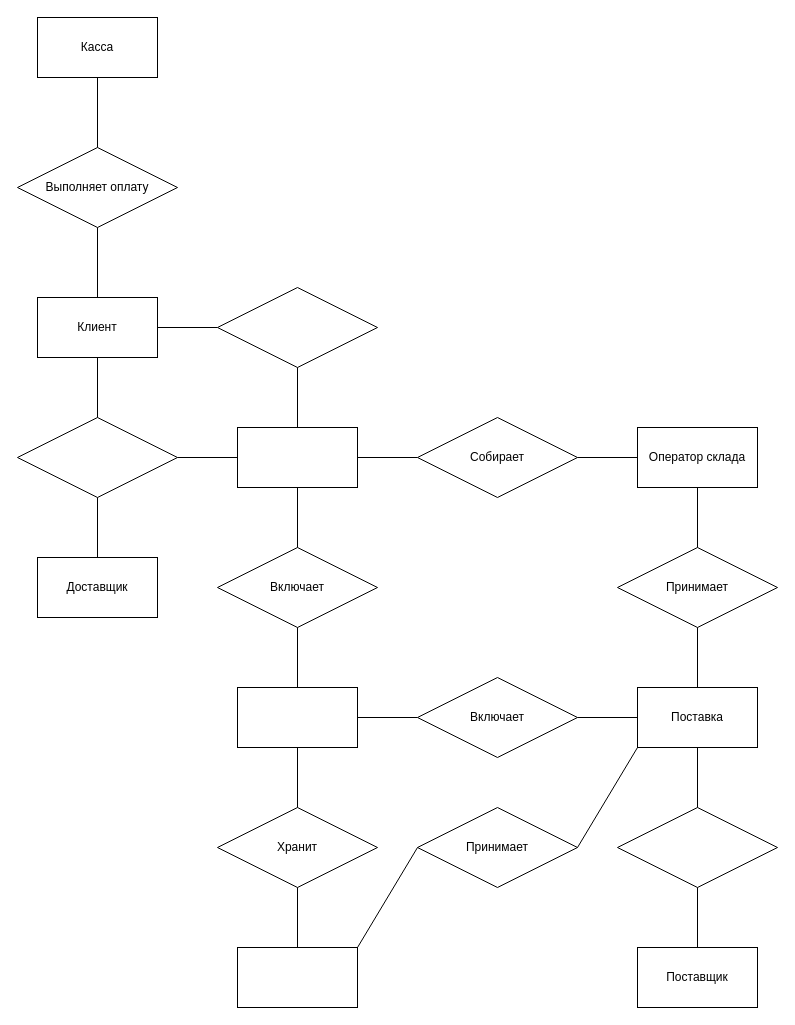
Some shapes in this 795 by 1025 pixel diagram are drawn without their labels. Each missing label, with the centre of its shape:
"Делает заказ" belongs at (x=297, y=327).
"Доставляет" belongs at (x=97, y=457).
"Заказ" belongs at (x=297, y=457).
"Номенклатура" belongs at (x=297, y=717).
"Поставляет" belongs at (x=697, y=847).
"Склад" belongs at (x=297, y=977).
